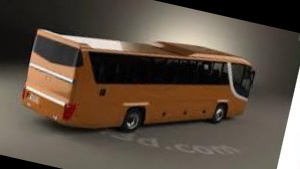bus: (16, 10, 259, 164)
